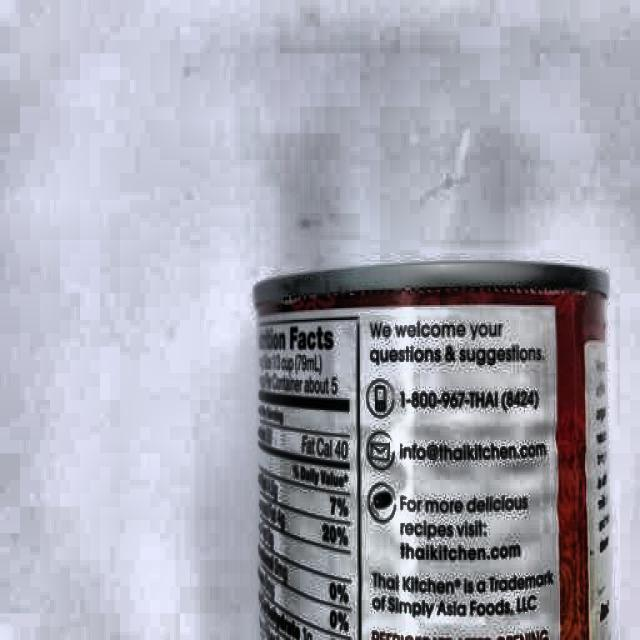metal: (248, 271, 621, 640)
